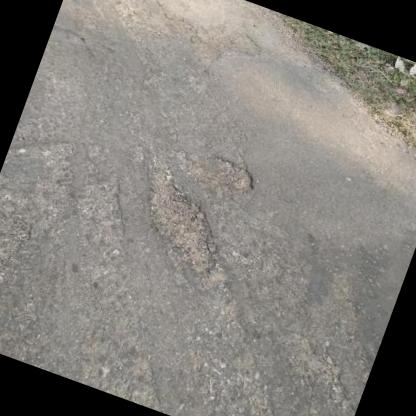pothole: (118, 160, 238, 275), (0, 208, 37, 282), (203, 152, 262, 198)
